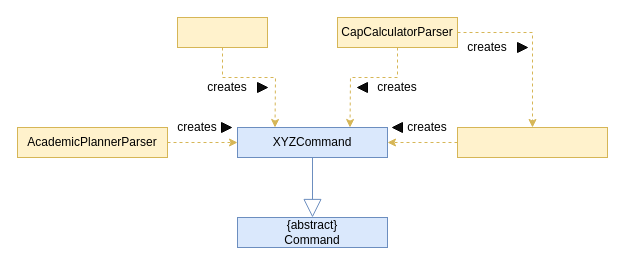
The diagram is 625 pixels wide and 265 high, and some of its shapes have lost their labels. The shapes that lost their labels are listed below. From the top down, each one's box as (x1, y1, x2, y2) in pixels, then its label:
(176, 16, 268, 48): AppParser
(456, 126, 608, 158): SetSuParser
